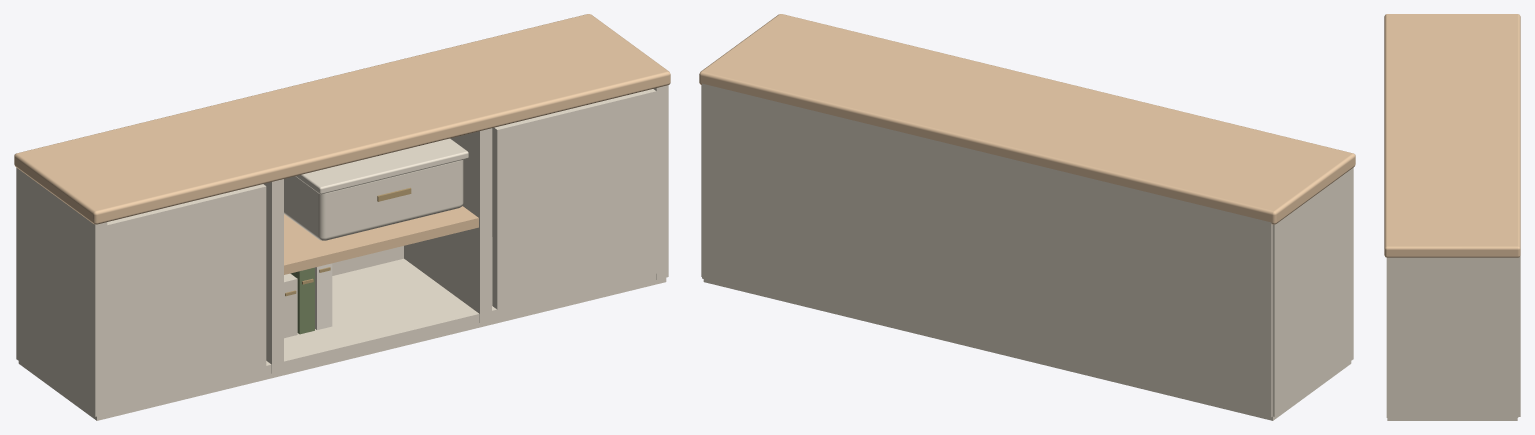
The model's file is bedroom_ref_dresser.glb.
The picture shows the model from 3 angles, left to right: view 1: azimuth 30°, elevation 25°; view 2: azimuth 150°, elevation 25°; view 3: azimuth 270°, elevation 25°; orthographic projection. The views are drawn at different scales.
Size of the model in its own units: 2.85 by 0.9925 by 0.7.
